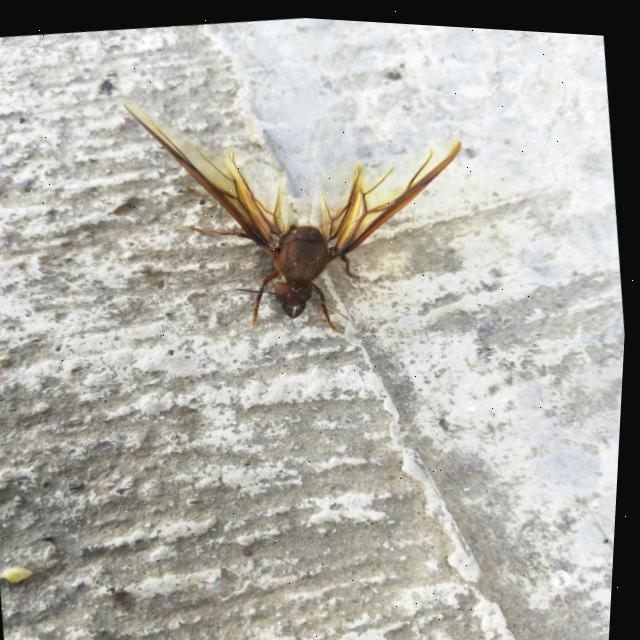Alive-Female-Alate: (113, 60, 488, 360)
